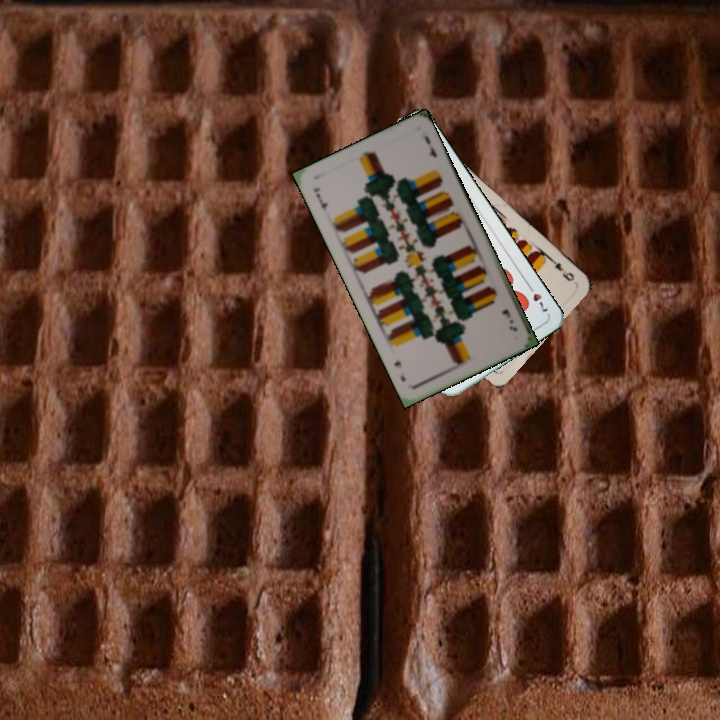E7: (497, 305, 520, 334), (310, 183, 331, 213)
E9: (545, 253, 577, 284)
H7: (523, 280, 551, 315)
